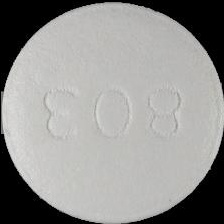50268-726: (0, 0, 224, 224)
